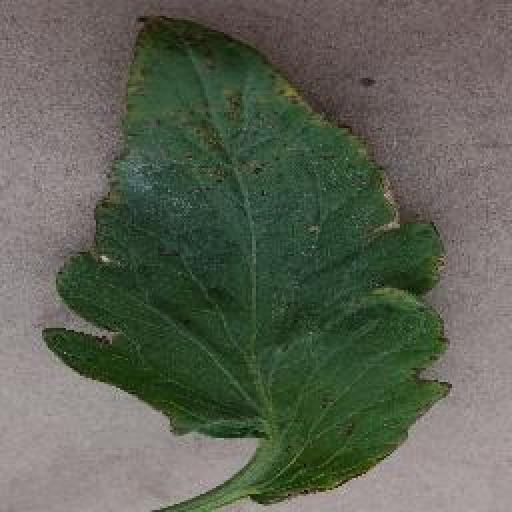Bacterial Spot: (42, 5, 454, 512)
